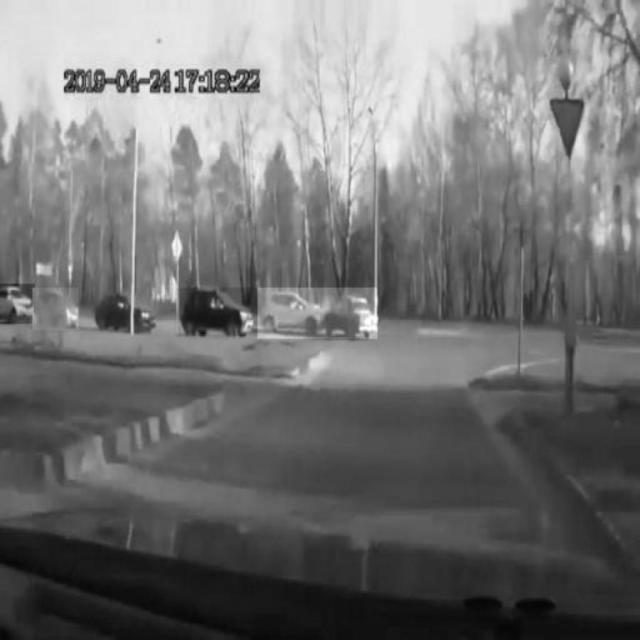accident: (258, 288, 378, 339)
vehicle: (175, 288, 257, 336), (90, 289, 158, 333), (33, 288, 79, 330), (1, 284, 36, 324)
